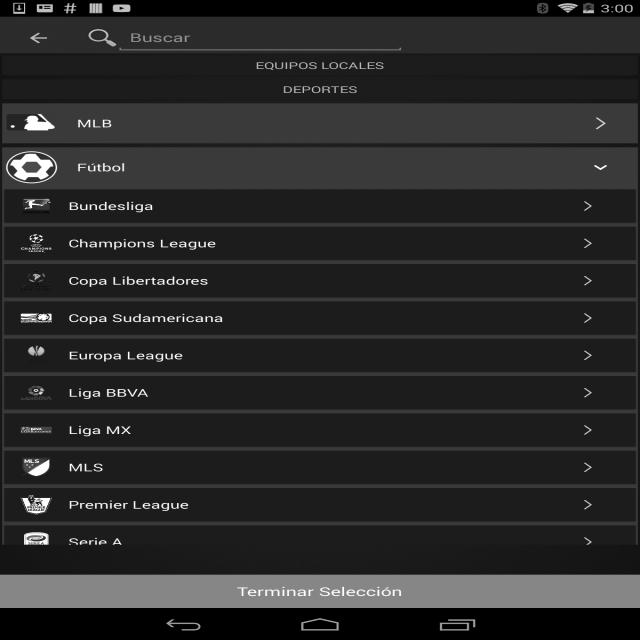EditText: (121, 26, 400, 50)
ImageButton: (9, 20, 68, 56)
ImageView: (2, 107, 61, 140), (2, 151, 61, 184), (15, 196, 58, 216), (15, 234, 58, 254), (15, 270, 58, 290), (15, 308, 58, 328), (15, 346, 58, 366), (15, 382, 58, 402), (15, 420, 58, 440), (15, 458, 58, 478), (15, 494, 58, 514), (15, 532, 58, 552), (86, 27, 120, 48), (587, 115, 614, 132), (587, 159, 614, 176), (577, 199, 598, 213), (577, 311, 598, 325), (577, 423, 598, 437), (577, 535, 598, 549), (577, 237, 598, 250), (577, 274, 598, 287), (577, 349, 598, 362), (577, 386, 598, 399), (577, 461, 598, 474), (577, 498, 598, 511)
TextView: (77, 110, 333, 137), (77, 154, 333, 181), (68, 196, 303, 216), (68, 234, 303, 254), (68, 270, 303, 290), (68, 308, 303, 328), (68, 346, 303, 366), (68, 382, 303, 402), (68, 420, 303, 440), (68, 458, 303, 478), (68, 494, 303, 514), (68, 532, 303, 552), (236, 583, 402, 599), (256, 59, 384, 72), (283, 83, 357, 96)
